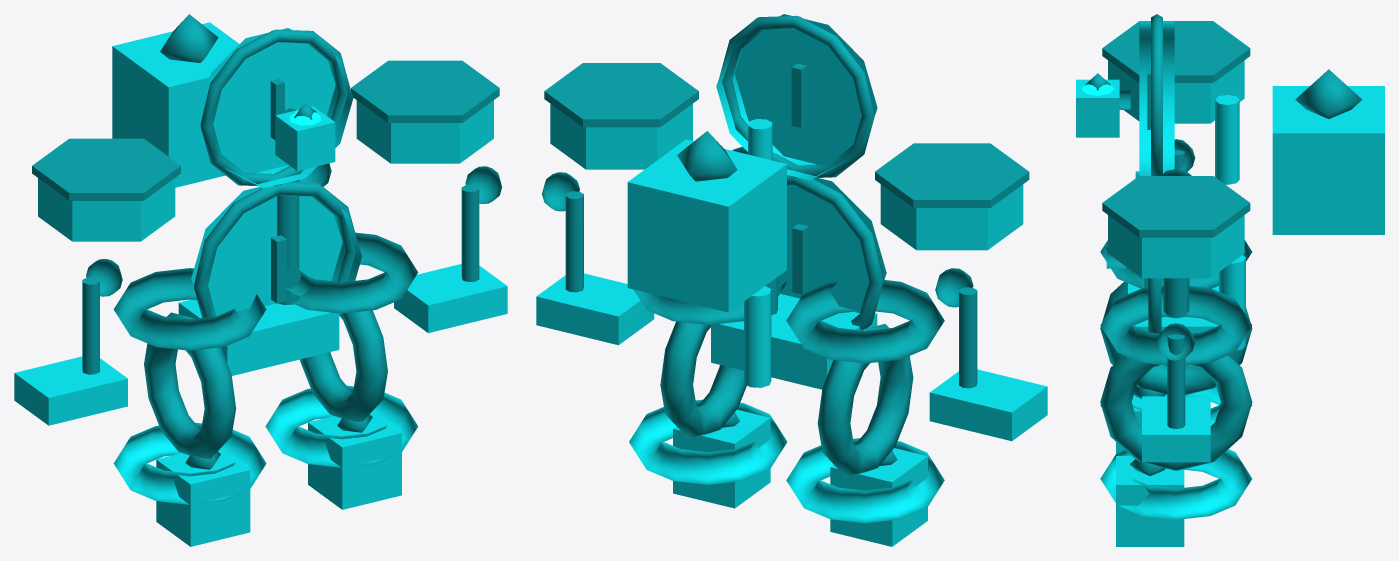
The model's file is golem_001.glb.
3 views of the same model, side by side, from view 1: azimuth 30°, elevation 25°; view 2: azimuth 150°, elevation 25°; view 3: azimuth 270°, elevation 25° (orthographic). The views are drawn at different scales.
Visible parts, largest first — view 1: Body, Detail; view 2: Body, Detail; view 3: Body, Detail.
Part boxes in pixels (x1=…): Body: x1=14, y1=22, x2=507, y2=546; Detail: x1=32, y1=14, x2=502, y2=469; Body: x1=536, y1=14, x2=1047, y2=546; Detail: x1=542, y1=15, x2=1029, y2=476; Body: x1=1076, y1=21, x2=1384, y2=546; Detail: x1=1085, y1=14, x2=1362, y2=475.
Bounding box in the file's own units: 1.35 × 1.31 × 0.7723.
